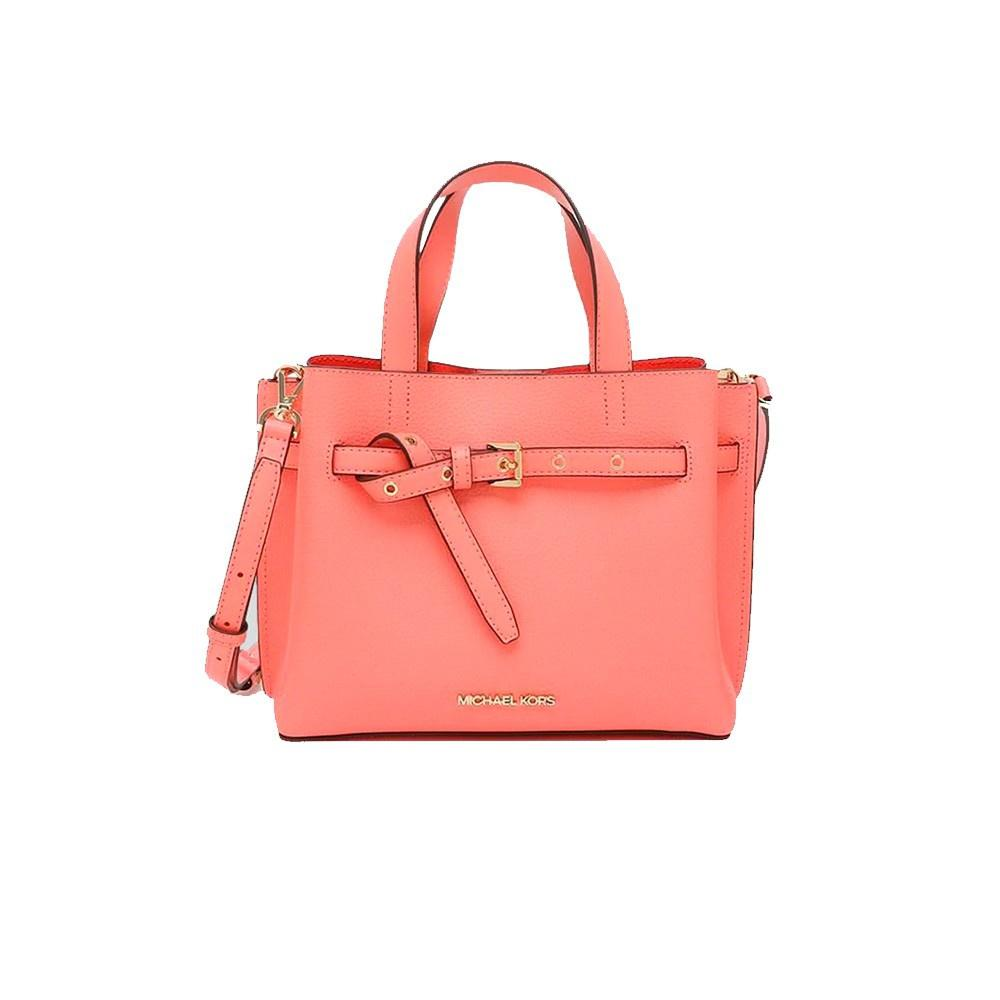MICHAEL-KORS: (457, 694, 555, 707)
